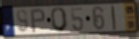5: (70, 6, 85, 32)
6: (91, 5, 106, 31)
9: (15, 9, 30, 34)
I: (110, 4, 117, 31)
O: (50, 7, 69, 33)
P: (30, 8, 47, 34)
